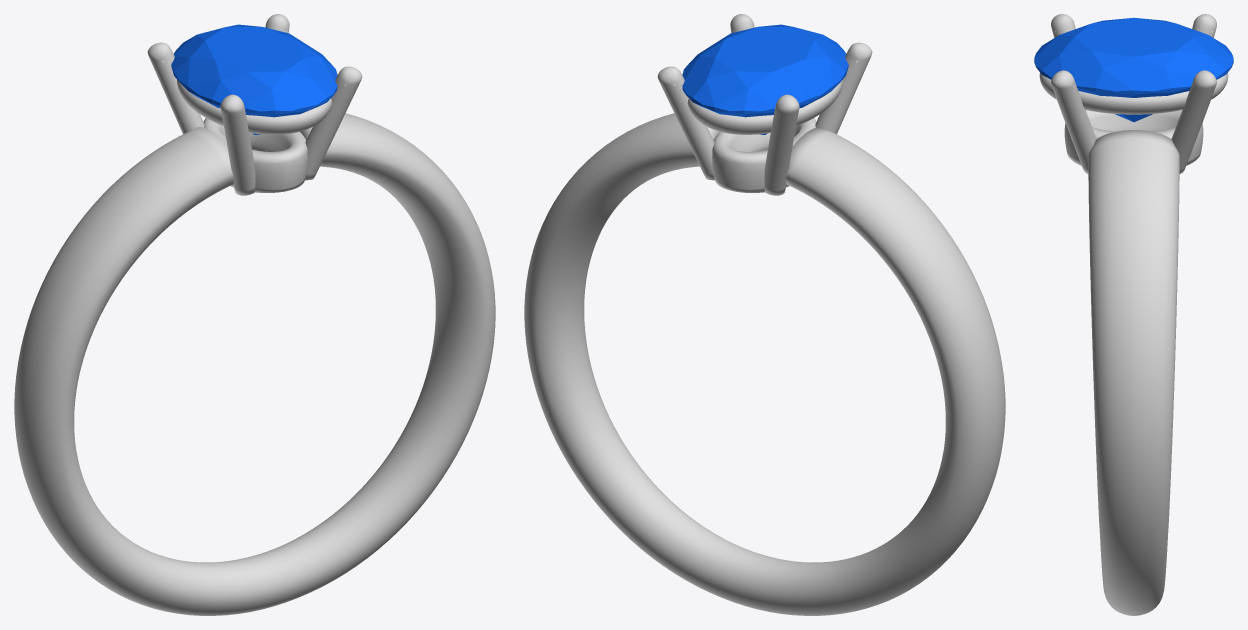
Rendered from bluesapphire-oval-platinum-4prong-taperedband-nosidestones.glb.
3 renders of one model, left to right at view 1: azimuth 30°, elevation 25°; view 2: azimuth 150°, elevation 25°; view 3: azimuth 270°, elevation 25°, orthographic.
Parts seen in each view (by area): view 1: metal, stone; view 2: metal, stone; view 3: metal, stone.
Boxes of the visible parts, box(x1,y1,x2,y2) form: metal: box(14, 14, 495, 615); stone: box(171, 24, 337, 134); metal: box(524, 14, 1005, 615); stone: box(682, 24, 848, 134); metal: box(1039, 14, 1228, 615); stone: box(1034, 17, 1233, 122).
Size of the model in its own units: 20.5 by 23.4 by 7.64.
